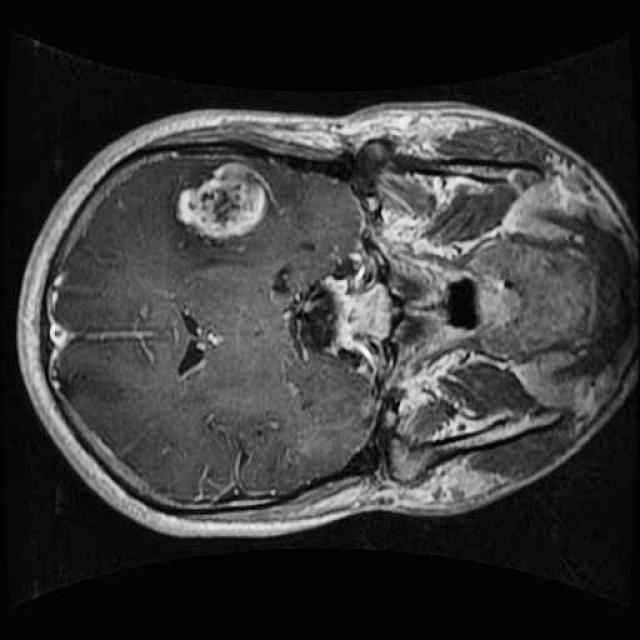Non-Tumor: (164, 144, 281, 254)
